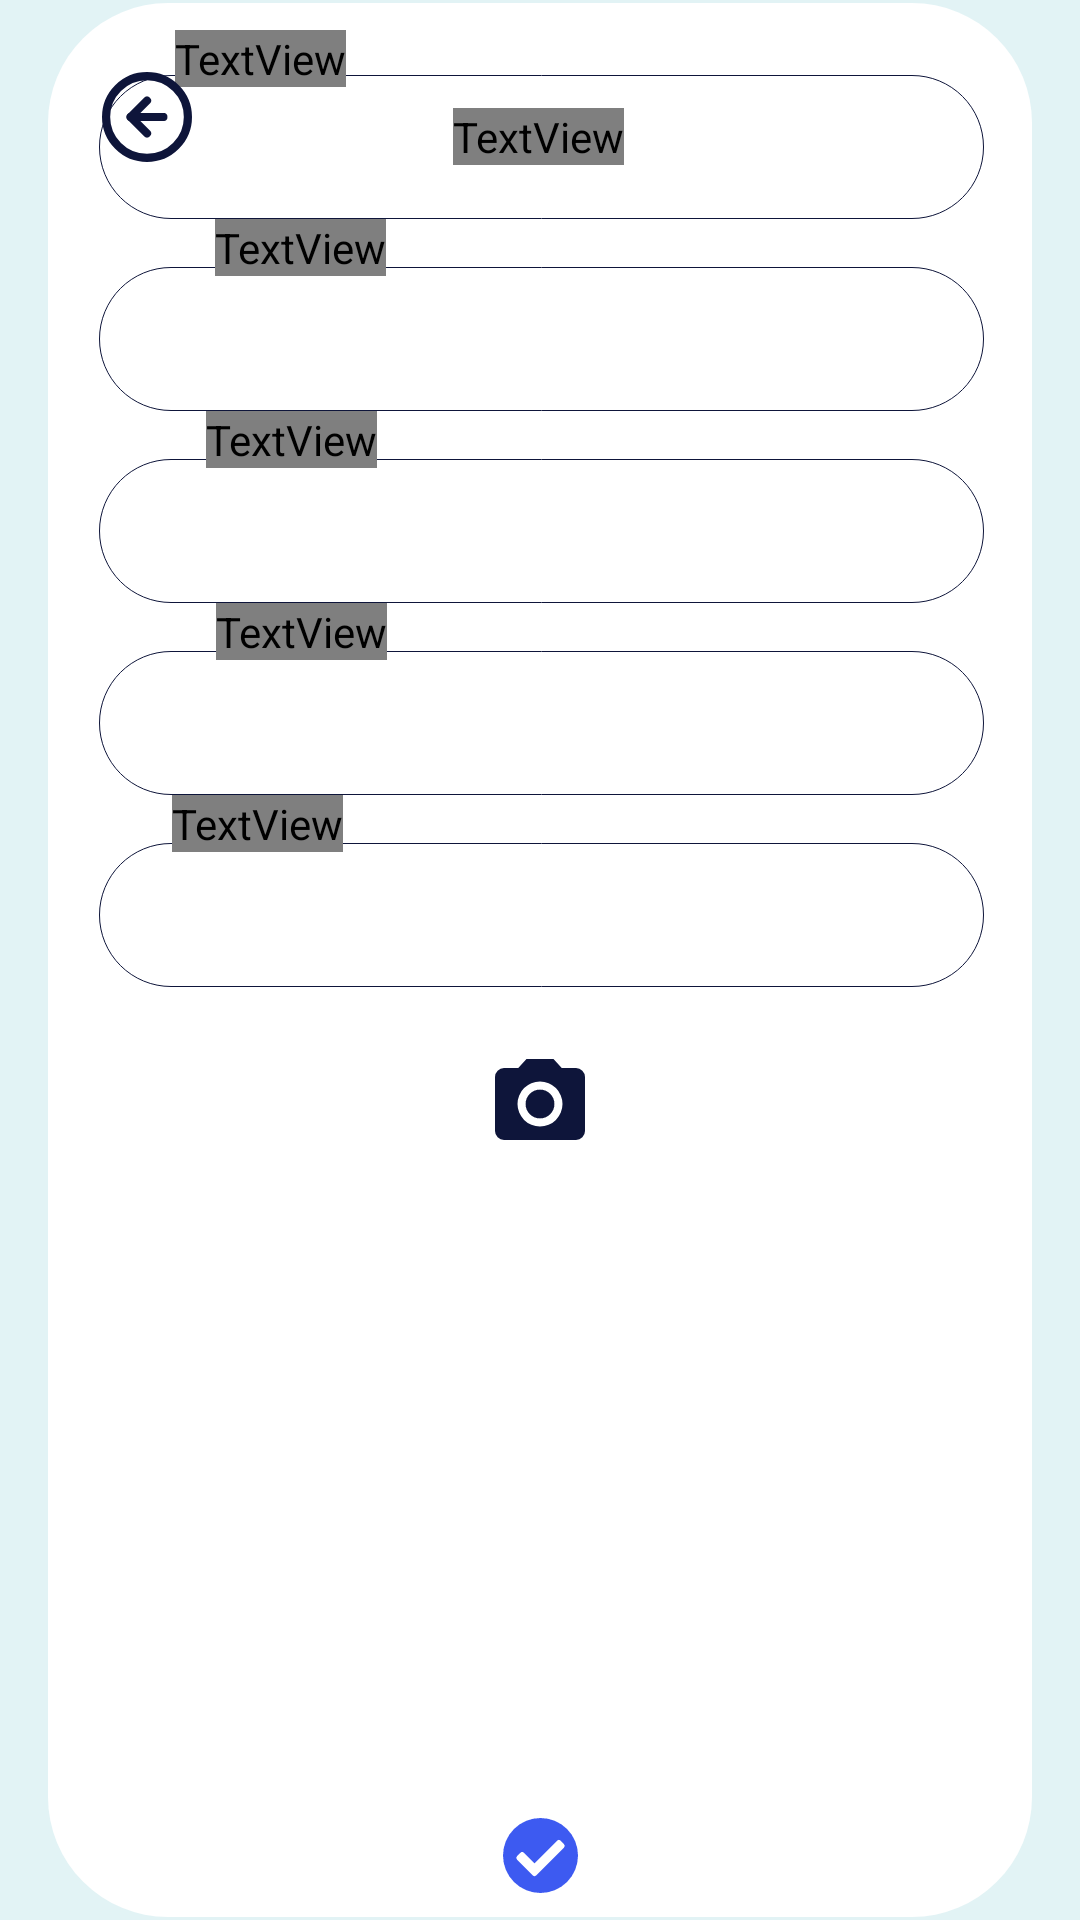

Icon bounding boxes for this 1080 × 1920 phone screenshot, format (x1, y1, x2, y2):
back: (102, 72, 192, 162)
camera: (495, 1059, 585, 1140)
save: (503, 1818, 578, 1893)
